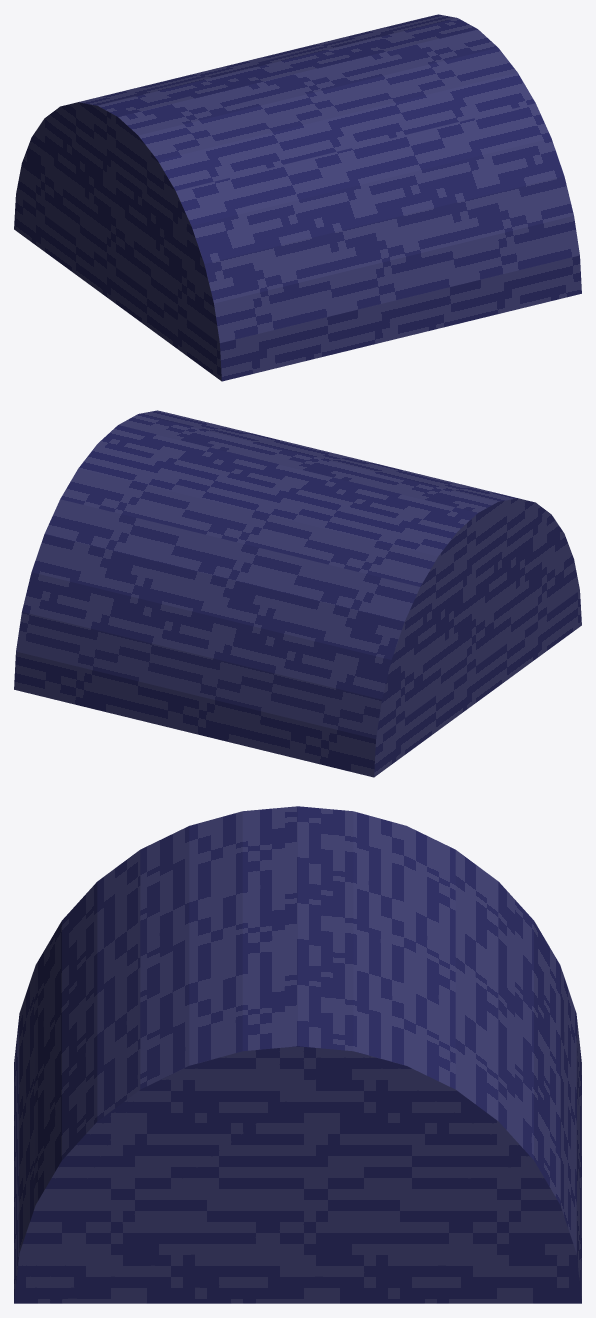
File: semicircleblock_blue.gltf
The picture shows the model from 3 angles, top to bottom: view 1: azimuth 30°, elevation 25°; view 2: azimuth 150°, elevation 25°; view 3: azimuth 270°, elevation 25°; orthographic projection. The views are drawn at different scales.
Visible parts, largest first — view 1: Cylinder; view 2: Cylinder; view 3: Cylinder.
Boxes of the visible parts, bbox=[...] form: Cylinder: bbox=[14, 14, 581, 381]; Cylinder: bbox=[14, 410, 581, 777]; Cylinder: bbox=[14, 806, 581, 1303].
Bounding box in the file's own units: 2 × 1 × 2.
Materials: 1 (1 with a texture image).
